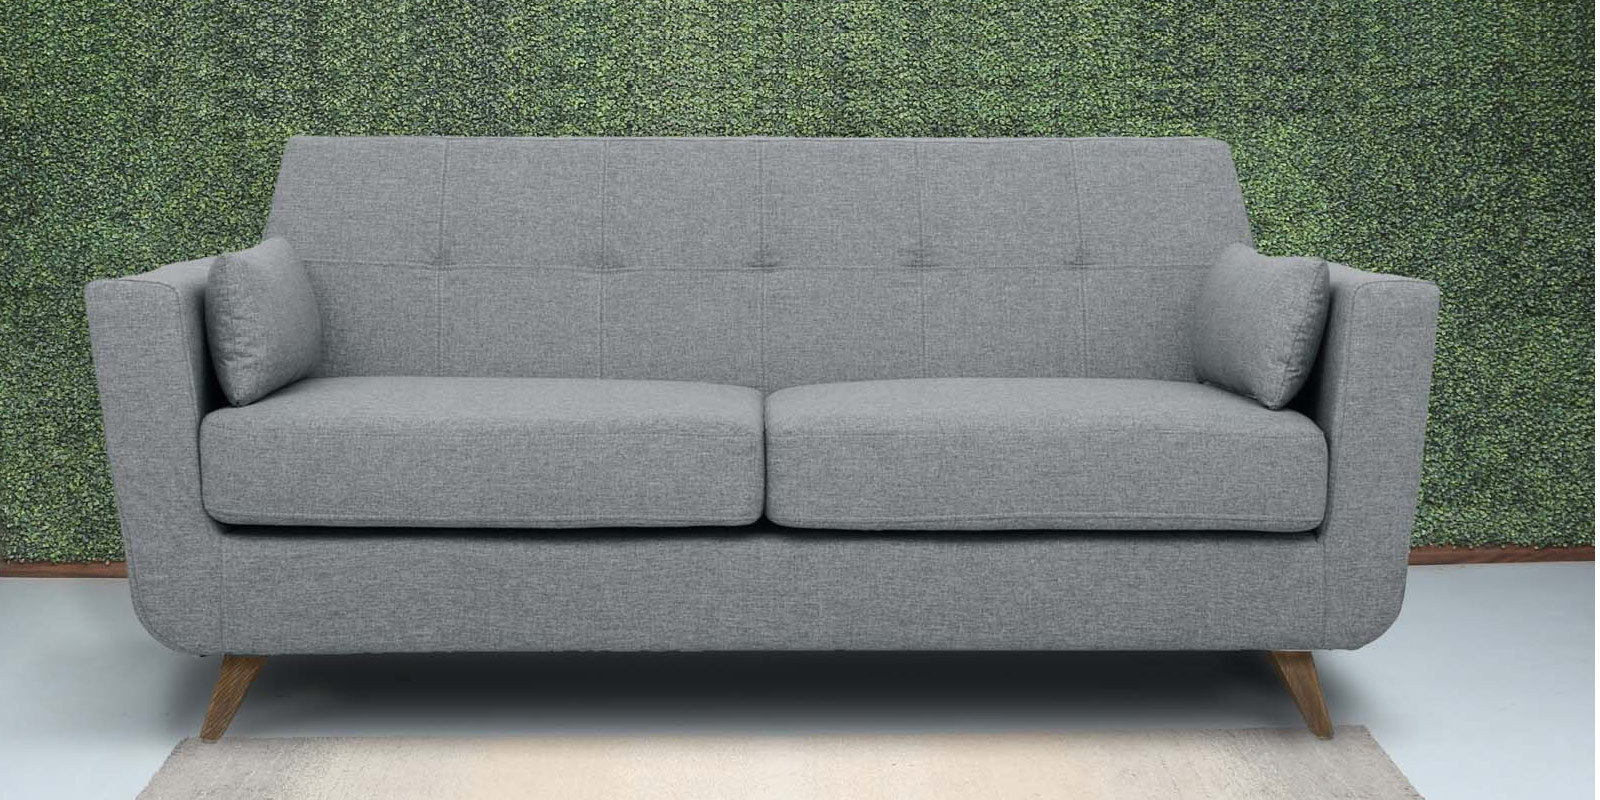Castello Three Seater Sofa in Gravel Grey Colour by CasaCraft: (80, 121, 1439, 743)
